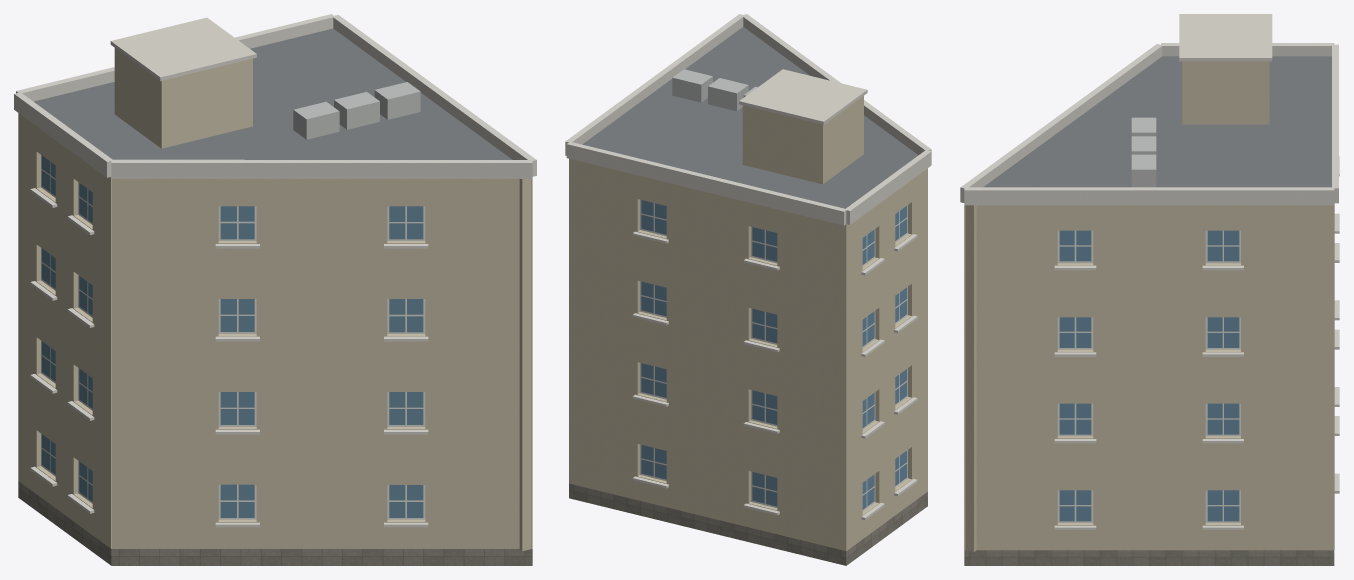
3 views of the same model, side by side, from view 1: azimuth 30°, elevation 25°; view 2: azimuth 150°, elevation 25°; view 3: azimuth 270°, elevation 25° (orthographic). The views are drawn at different scales.
Visible parts, largest first — view 1: link-n__cream, link-n__greyroof, link-n__white, link-n__sideglass, link-n__stone, link-n__cap, link-n__frame, link-n__unit; view 2: link-n__cream, link-n__greyroof, link-n__white, link-n__sideglass, link-n__stone, link-n__cap, link-n__frame, link-n__unit; view 3: link-n__cream, link-n__greyroof, link-n__white, link-n__sideglass, link-n__stone, link-n__cap, link-n__frame, link-n__unit.
Boxes of the visible parts, bbox=[...] form: link-n__cream: bbox=[18, 48, 532, 551]; link-n__greyroof: bbox=[34, 28, 512, 159]; link-n__white: bbox=[14, 14, 536, 527]; link-n__sideglass: bbox=[42, 155, 423, 517]; link-n__stone: bbox=[18, 481, 532, 565]; link-n__cap: bbox=[110, 17, 256, 80]; link-n__frame: bbox=[41, 155, 425, 519]; link-n__unit: bbox=[293, 82, 420, 139]; link-n__cream: bbox=[569, 96, 927, 550]; link-n__greyroof: bbox=[582, 27, 918, 208]; link-n__white: bbox=[565, 14, 931, 520]; link-n__sideglass: bbox=[641, 200, 907, 509]; link-n__stone: bbox=[569, 483, 927, 565]; link-n__cap: bbox=[739, 69, 867, 124]; link-n__frame: bbox=[640, 199, 907, 511]; link-n__unit: bbox=[672, 69, 757, 111]; link-n__cream: bbox=[964, 61, 1334, 552]; link-n__greyroof: bbox=[983, 56, 1331, 187]; link-n__white: bbox=[960, 43, 1339, 529]; link-n__sideglass: bbox=[1059, 230, 1239, 521]; link-n__stone: bbox=[964, 550, 1334, 565]; link-n__cap: bbox=[1179, 14, 1272, 61]; link-n__frame: bbox=[1057, 230, 1240, 522]; link-n__unit: bbox=[1131, 117, 1156, 187].
Size of the model in its own units: 12.83 by 17.59 by 13.89.
8 materials, 3 textured.
